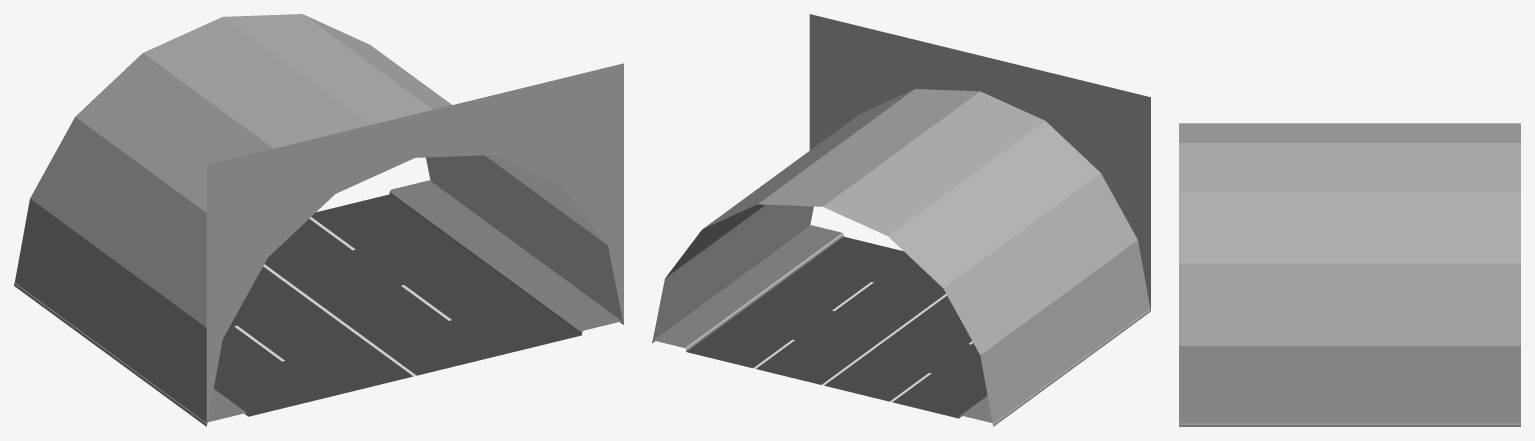
The model's file is wideHighwayMountainpassEntranceglb.glb.
The picture shows the model from 3 angles, left to right: view 1: azimuth 30°, elevation 25°; view 2: azimuth 150°, elevation 25°; view 3: azimuth 270°, elevation 25°; orthographic projection. The views are drawn at different scales.
Visible parts, largest first — view 1: Tunnel_Entrance_1_mesh; view 2: Tunnel_Entrance_1_mesh; view 3: Tunnel_Entrance_1_mesh.
Boxes of the visible parts, x1=… form: Tunnel_Entrance_1_mesh: x1=14, y1=14, x2=623, y2=426; Tunnel_Entrance_1_mesh: x1=652, y1=14, x2=1150, y2=426; Tunnel_Entrance_1_mesh: x1=1179, y1=123, x2=1520, y2=426.
Bounding box in the file's own units: 25 × 15 × 20.
Materials: 1 (1 with a texture image).
